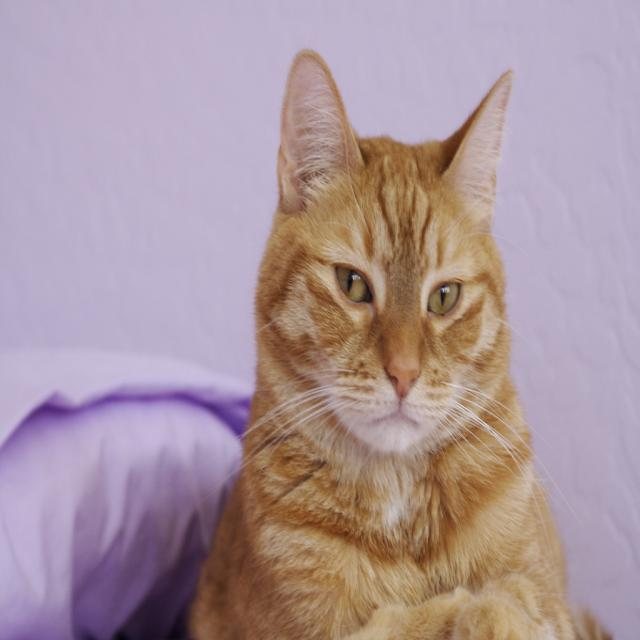cat: (187, 47, 612, 639)
